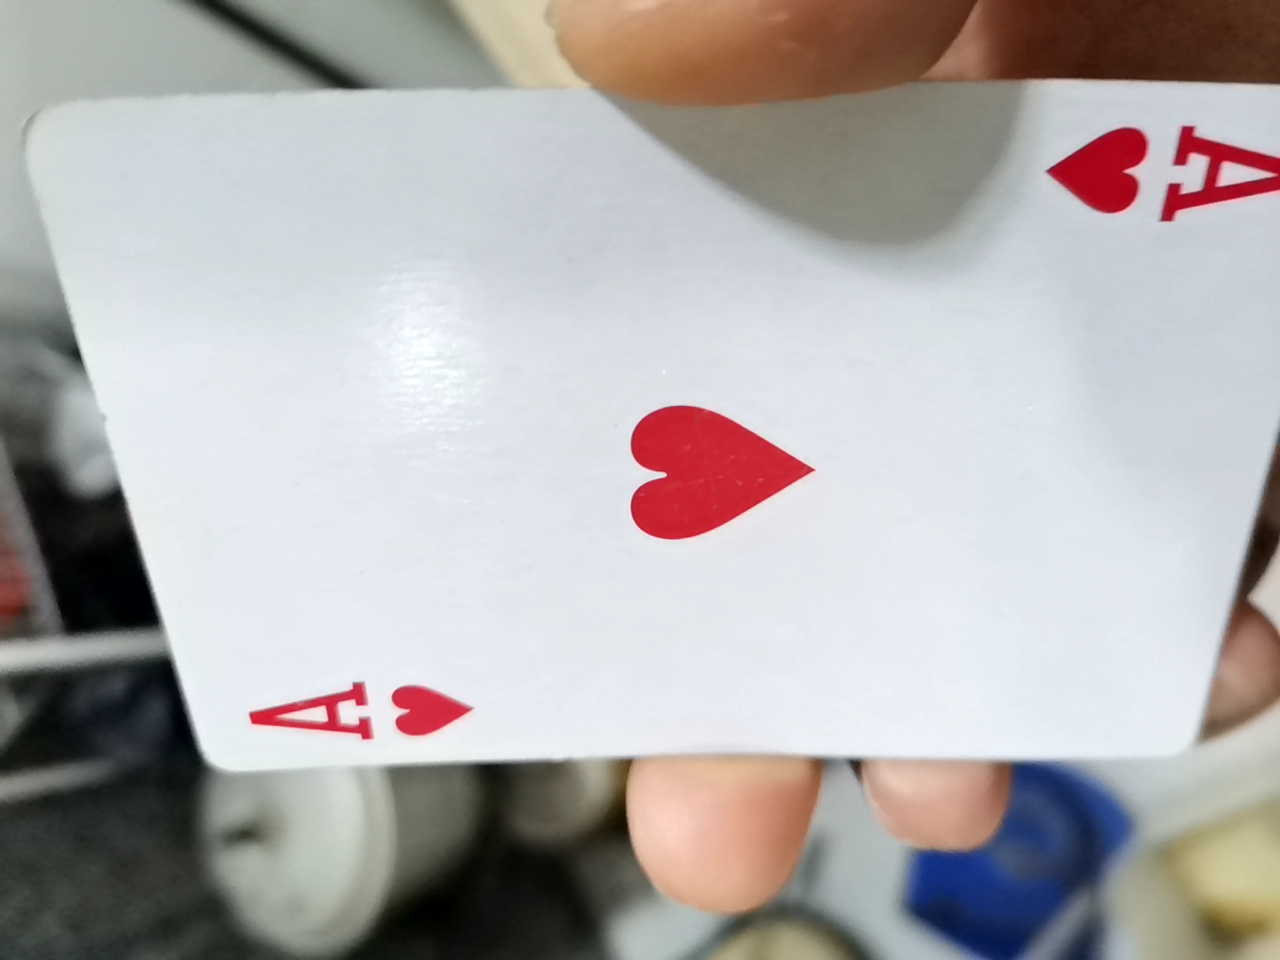hx a: (25, 71, 1267, 803)
